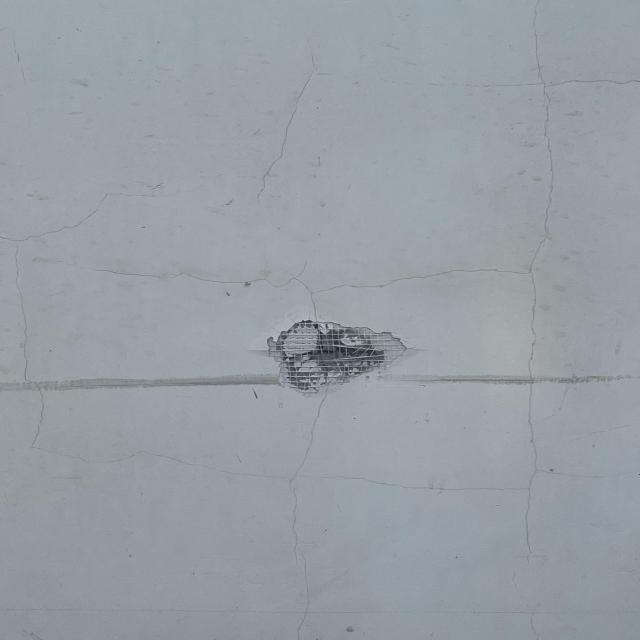crack: (4, 0, 640, 640), (244, 42, 337, 206)
spalling: (250, 313, 427, 402)
